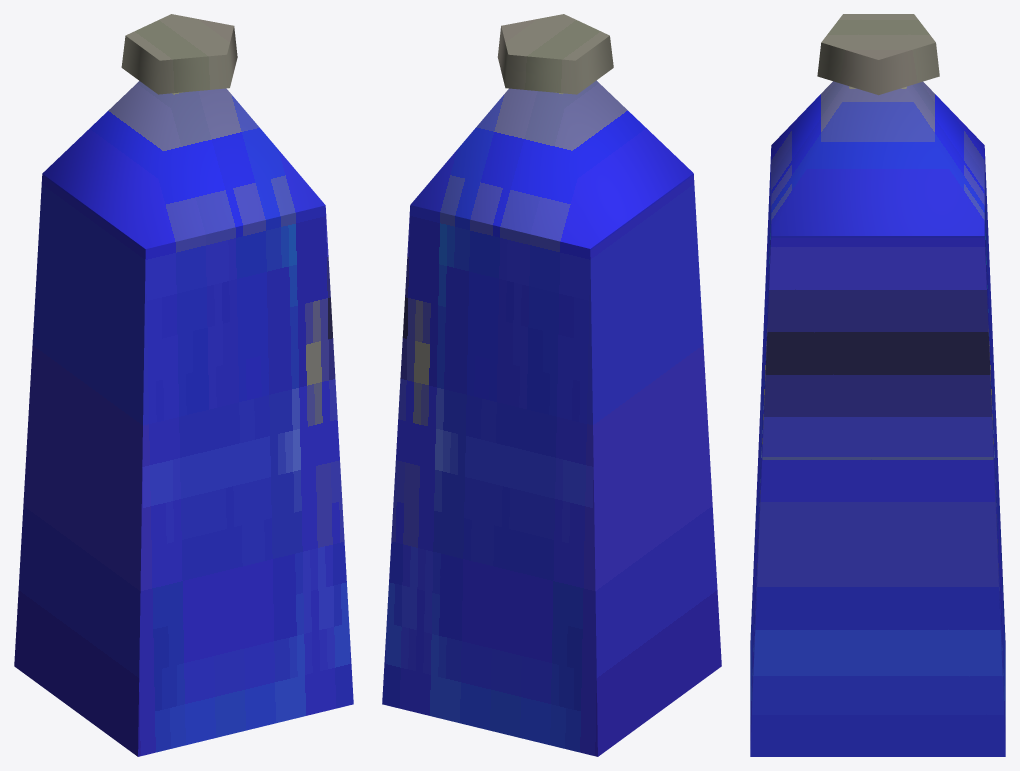
Rendered from eqp_bottle_s02_l3.fbx.
The picture shows the model from 3 angles, left to right: view 1: azimuth 30°, elevation 25°; view 2: azimuth 150°, elevation 25°; view 3: azimuth 270°, elevation 25°; orthographic projection. The views are drawn at different scales.
Parts seen in each view (by area): view 1: mesh_node; view 2: mesh_node; view 3: mesh_node.
Boxes of the visible parts, <box> form: mesh_node: <box>14,14,353,756</box>; mesh_node: <box>382,14,721,756</box>; mesh_node: <box>750,14,1005,756</box>.
Size of the model in its own units: 0.037 by 0.1061 by 0.0368.
